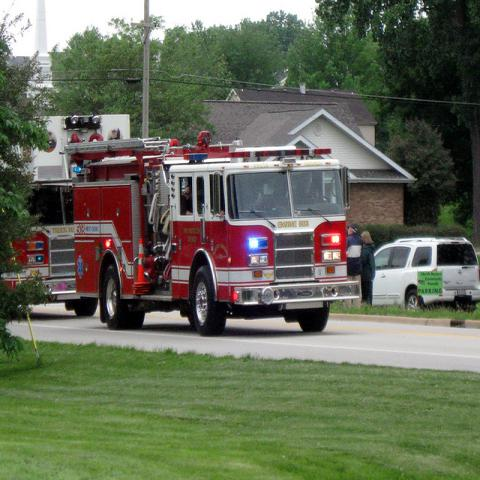car: (372, 236, 479, 314)
truck: (60, 132, 362, 336), (6, 181, 92, 317)
